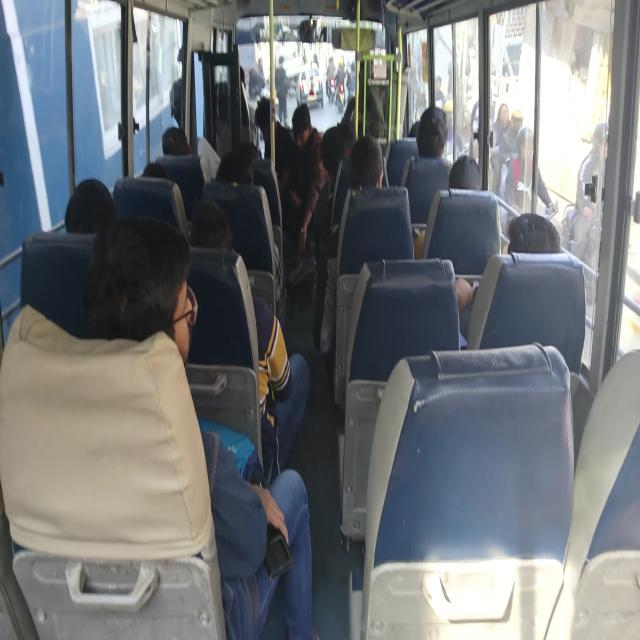person: (83, 215, 318, 639), (189, 198, 310, 481), (319, 134, 385, 357), (456, 212, 562, 348), (311, 120, 355, 352), (562, 121, 608, 267), (287, 102, 327, 258), (400, 105, 452, 225), (504, 125, 558, 218), (253, 95, 298, 198), (64, 178, 116, 234), (489, 102, 516, 200), (506, 212, 560, 254), (416, 106, 448, 160), (448, 154, 482, 190), (275, 56, 289, 126), (161, 126, 191, 156)
